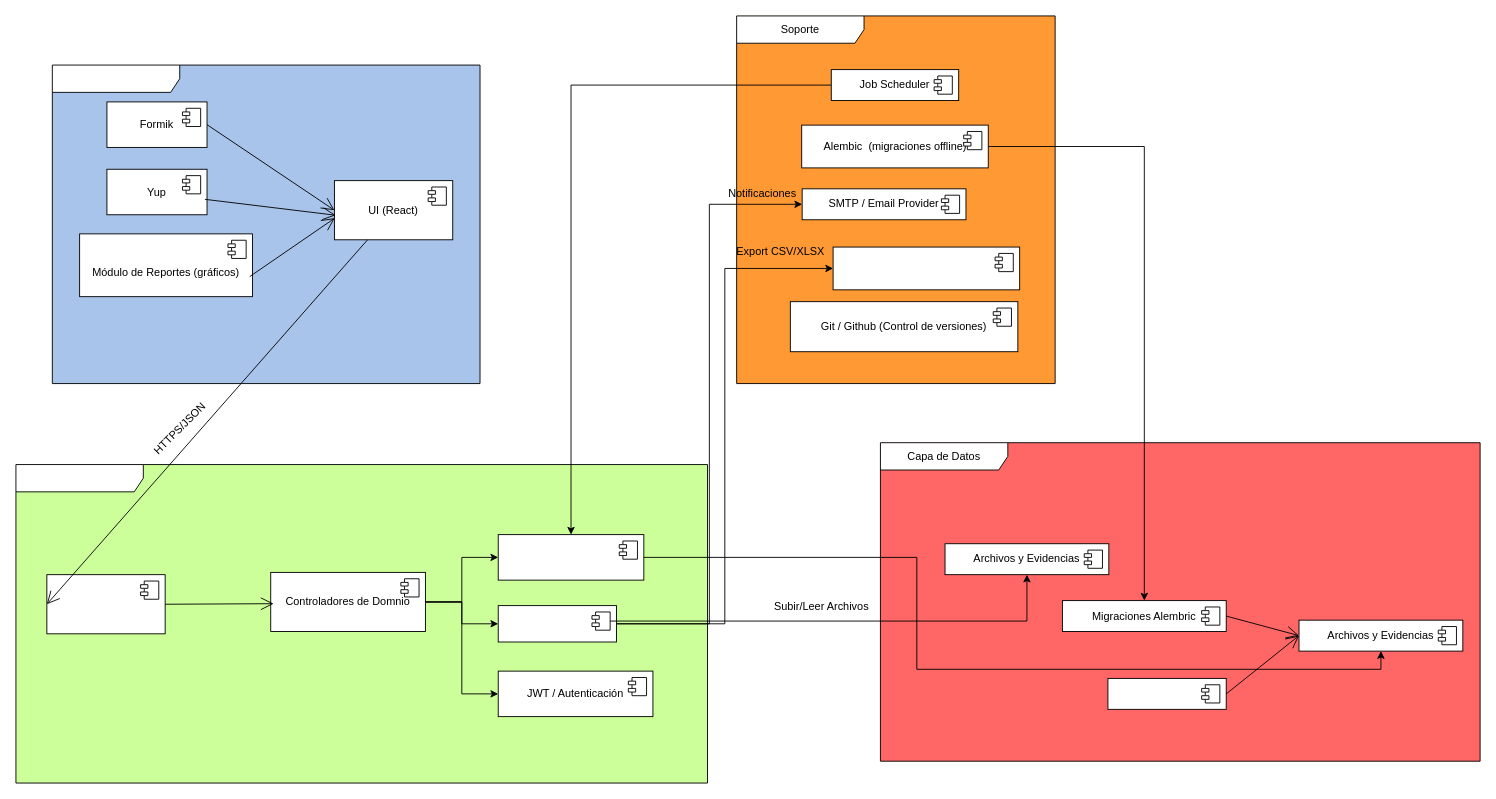
Some shapes in this 1496 by 799 pixel diagram are drawn without their labels. Each missing label, with the box of its shape:
C_api(Gateway HTTP): (46, 574, 165, 634)
Capa de Negocio: (15, 464, 708, 783)
Capa Presentación: (51, 64, 480, 384)
Esquemas: (1107, 677, 1226, 709)
Export a Excel/Power Bi: (832, 246, 1020, 290)
Servicios: (497, 605, 617, 642)
SQLAlchemy (ORM): (497, 534, 644, 580)
